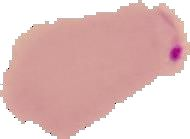parasitized: (128, 4, 189, 70)
